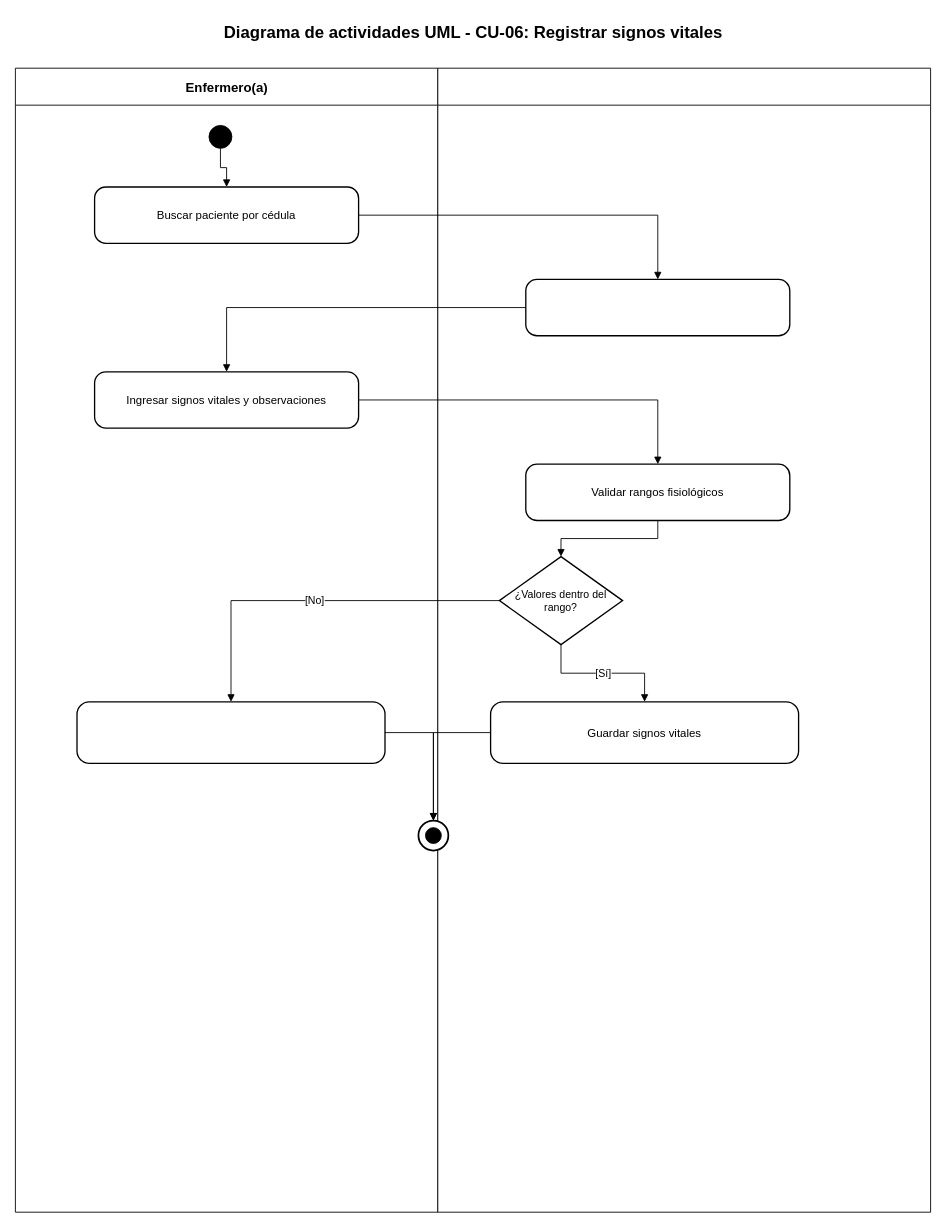
The diagram is 946 pixels wide and 1228 high, and some of its shapes have lost their labels. The box of each missing label's shape, as (x1, y1, x2, y2) in pixels:
SICM / Sistema: (437, 67, 931, 1212)
Solicitar confirmación o corrección del valor atípico: (76, 701, 385, 764)
Verificar turno asignado: (525, 278, 790, 336)
